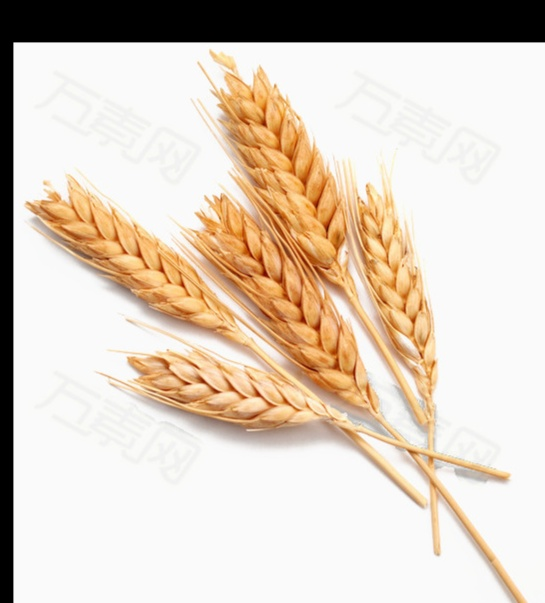wheat: (19, 167, 266, 369), (193, 189, 392, 423), (211, 58, 358, 292), (116, 343, 382, 431), (354, 195, 445, 431)
